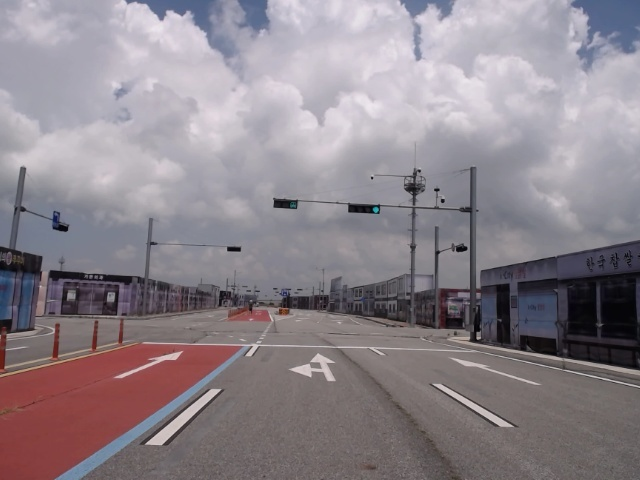straight_green_4: (348, 204, 381, 215)
